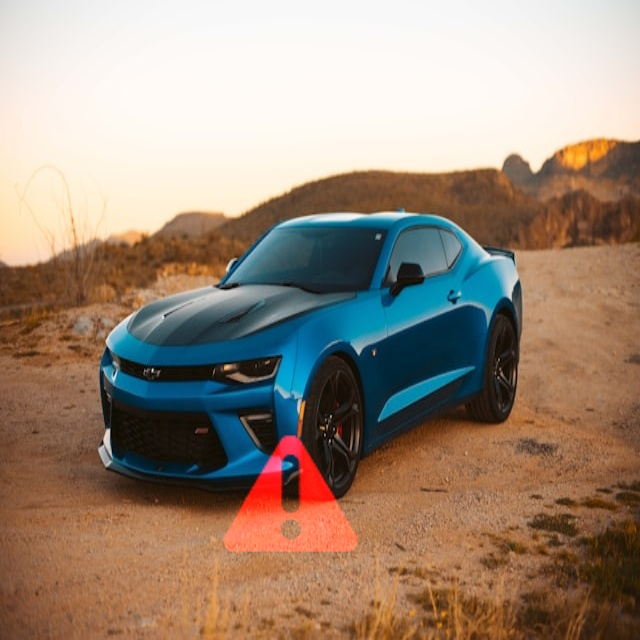symbol: (184, 389, 396, 601)
